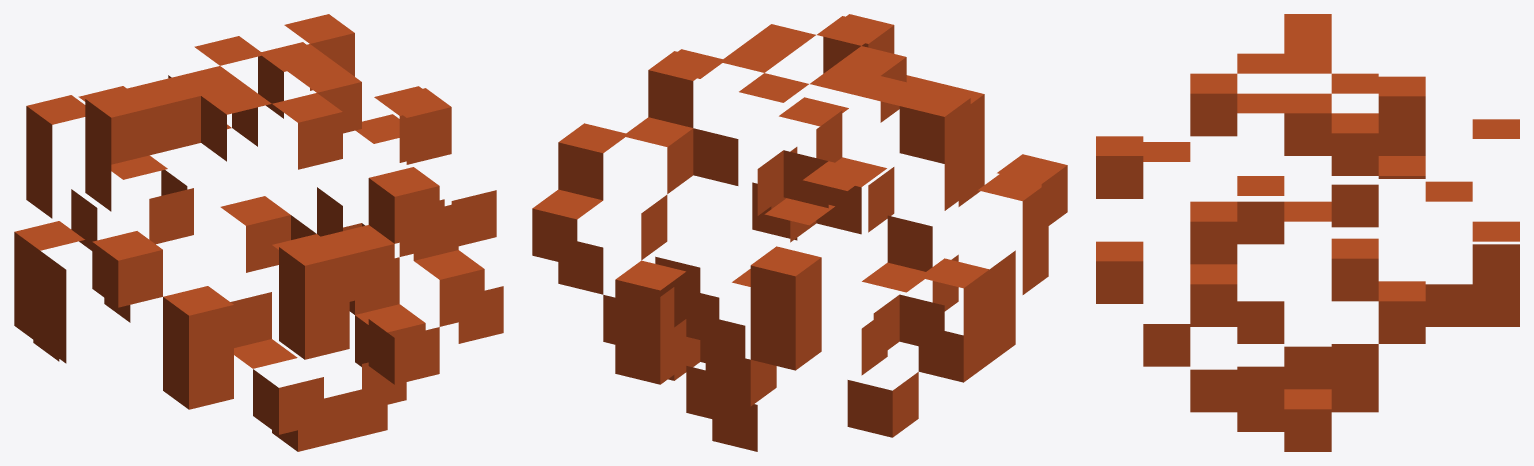
Rendered from tree-maple-0p9-maple-c4501f.gltf.
3 renders of one model, left to right at view 1: azimuth 30°, elevation 25°; view 2: azimuth 150°, elevation 25°; view 3: azimuth 270°, elevation 25°, orthographic. The views are drawn at different scales.
Parts seen in each view (by area): view 1: tree-maple-0p9-maple-c4501f; view 2: tree-maple-0p9-maple-c4501f; view 3: tree-maple-0p9-maple-c4501f.
Boxes of the visible parts, left/top/right/bottom form: tree-maple-0p9-maple-c4501f: left=14, top=14, right=503, bottom=451; tree-maple-0p9-maple-c4501f: left=532, top=14, right=1067, bottom=451; tree-maple-0p9-maple-c4501f: left=1096, top=14, right=1519, bottom=451.
Size of the model in its own units: 9 by 7 by 9.
